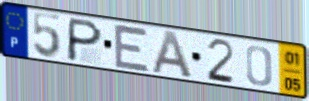0: (245, 44, 274, 88)
2: (205, 37, 235, 85)
5: (32, 10, 65, 60)
A: (150, 29, 195, 80)
E: (112, 22, 152, 74)
P: (65, 16, 105, 64)
